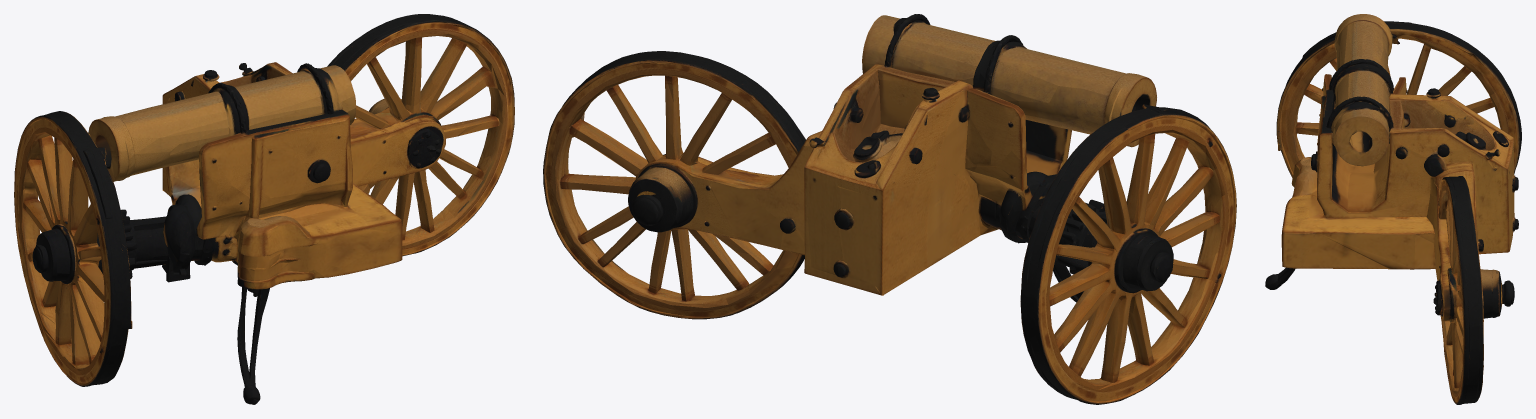
File: canon-autrichien.glb
3 views of the same model, side by side, from view 1: azimuth 30°, elevation 25°; view 2: azimuth 150°, elevation 25°; view 3: azimuth 270°, elevation 25° (orthographic). The views are drawn at different scales.
Size of the model in its own units: 1.9 by 0.9686 by 0.9342.
Materials: 1 (1 with a texture image).
